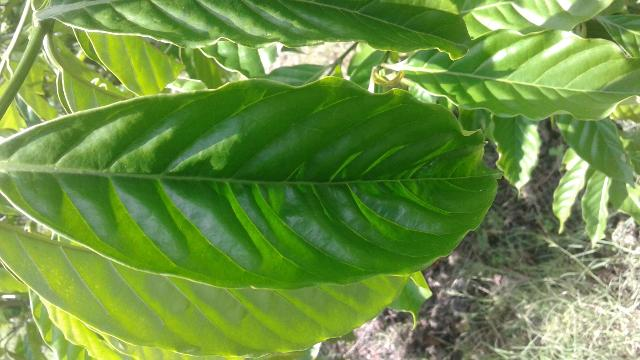healthy: (2, 77, 503, 291)
